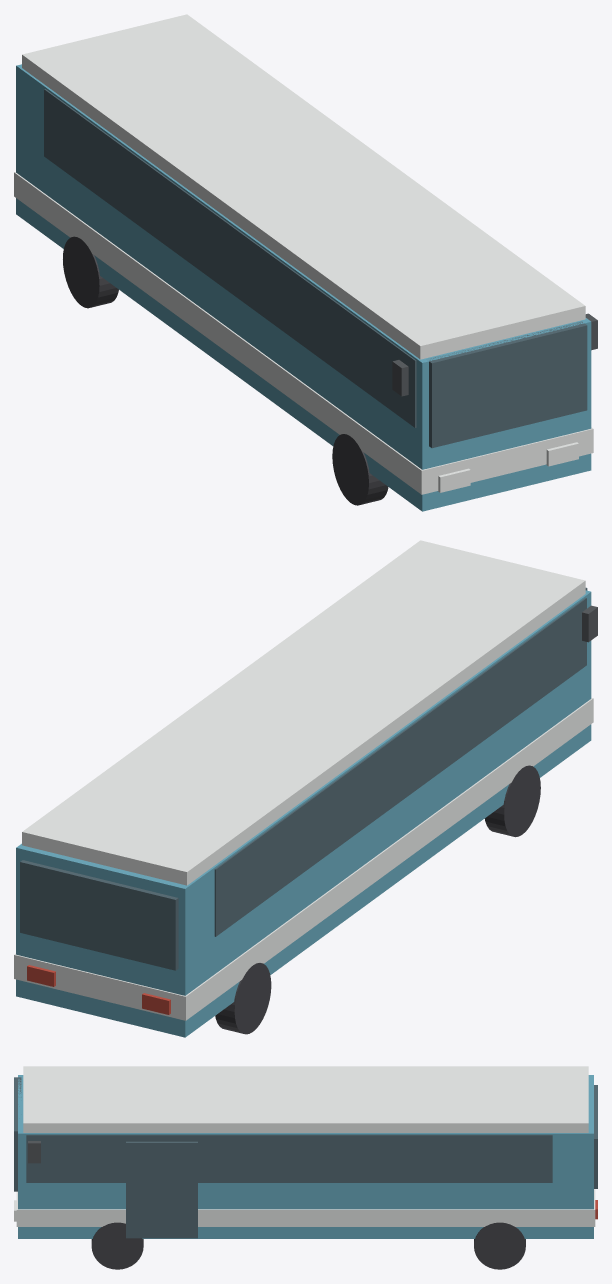
Rendered from bus.glb.
3 views of the same model, one above another, from view 1: azimuth 30°, elevation 25°; view 2: azimuth 150°, elevation 25°; view 3: azimuth 270°, elevation 25° (orthographic). The views are drawn at different scales.
Parts seen in each view (by area): view 1: fm_bus_roof, fm_bus_body, fm_bus_windows, fm_bus_windshield, fm_bus_stripe, fm_bus_wheel_-11_-34, fm_bus_wheel_-11_35; view 2: fm_bus_roof, fm_bus_body, fm_bus_windows, fm_bus_stripe, fm_bus_rear_glass, fm_bus_wheel_-11_35, fm_bus_wheel_-11_-34; view 3: fm_bus_roof, fm_bus_body, fm_bus_windows, fm_bus_stripe, fm_bus_door, fm_bus_wheel_11_35, fm_bus_wheel_11_-34, fm_bus_windshield, fm_bus_rear_glass, fm_bus_mirror_r.
Boxes of the visible parts, <box> form: fm_bus_roof: <box>22,14,585,359</box>; fm_bus_body: <box>16,64,591,511</box>; fm_bus_windows: <box>44,89,416,427</box>; fm_bus_windshield: <box>429,321,587,448</box>; fm_bus_stripe: <box>14,172,593,494</box>; fm_bus_wheel_-11_-34: <box>332,434,388,505</box>; fm_bus_wheel_-11_35: <box>63,236,118,308</box>; fm_bus_roof: <box>22,540,585,885</box>; fm_bus_body: <box>16,590,591,1037</box>; fm_bus_windows: <box>214,597,586,936</box>; fm_bus_stripe: <box>14,698,593,1020</box>; fm_bus_rear_glass: <box>20,860,178,970</box>; fm_bus_wheel_-11_35: <box>215,963,271,1034</box>; fm_bus_wheel_-11_-34: <box>484,765,540,837</box>; fm_bus_roof: <box>23,1066,588,1132</box>; fm_bus_body: <box>18,1075,593,1238</box>; fm_bus_windows: <box>26,1135,552,1182</box>; fm_bus_stripe: <box>16,1189,595,1226</box>; fm_bus_door: <box>126,1141,197,1238</box>; fm_bus_wheel_11_35: <box>474,1222,525,1269</box>; fm_bus_wheel_11_-34: <box>91,1222,143,1269</box>; fm_bus_windshield: <box>14,1077,21,1191</box>; fm_bus_rear_glass: <box>594,1085,597,1188</box>; fm_bus_mirror_r: <box>28,1141,40,1163</box>.
Bounding box in the file's own units: 2.9 × 2.89 × 10.54.
